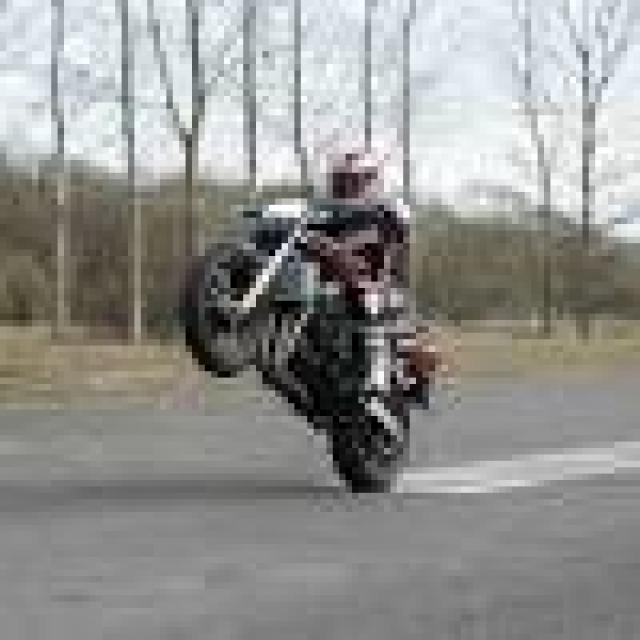Wheeling: (187, 134, 434, 510)
